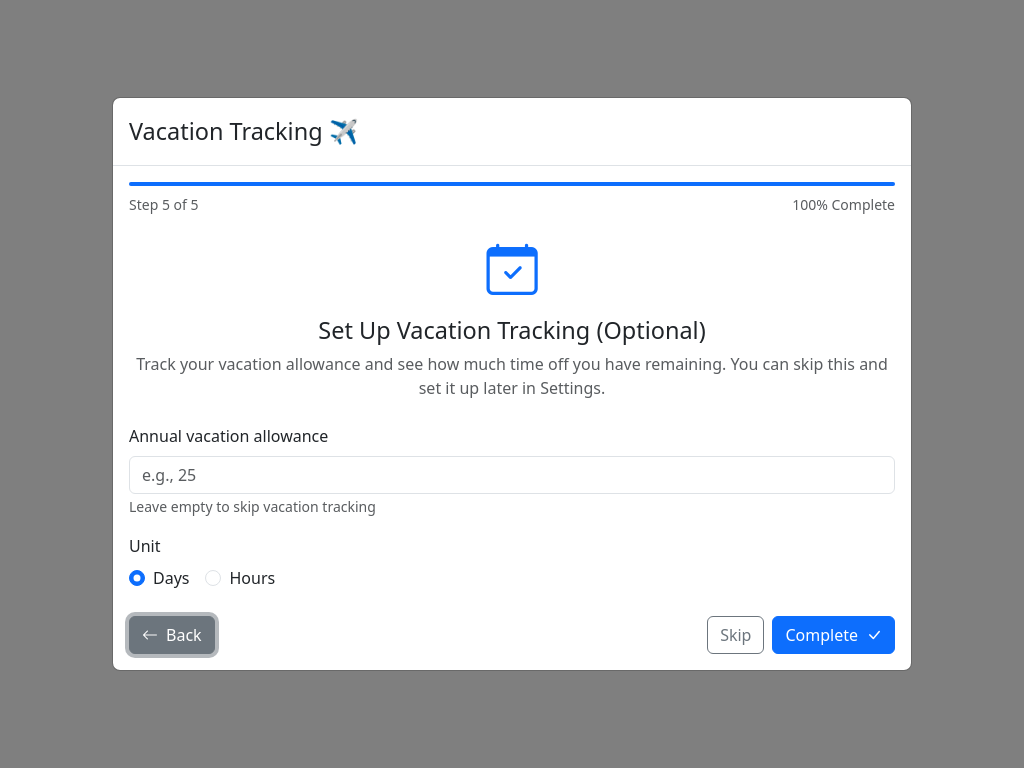
WelcomeWizard › Vacation Allowance Step › should show 'Save & Complete' button when amount is entered
Type "20" into the number field labelled "Annual vacation allowance".
click(512, 475); type("20")  # box 129,456 -> 895,494
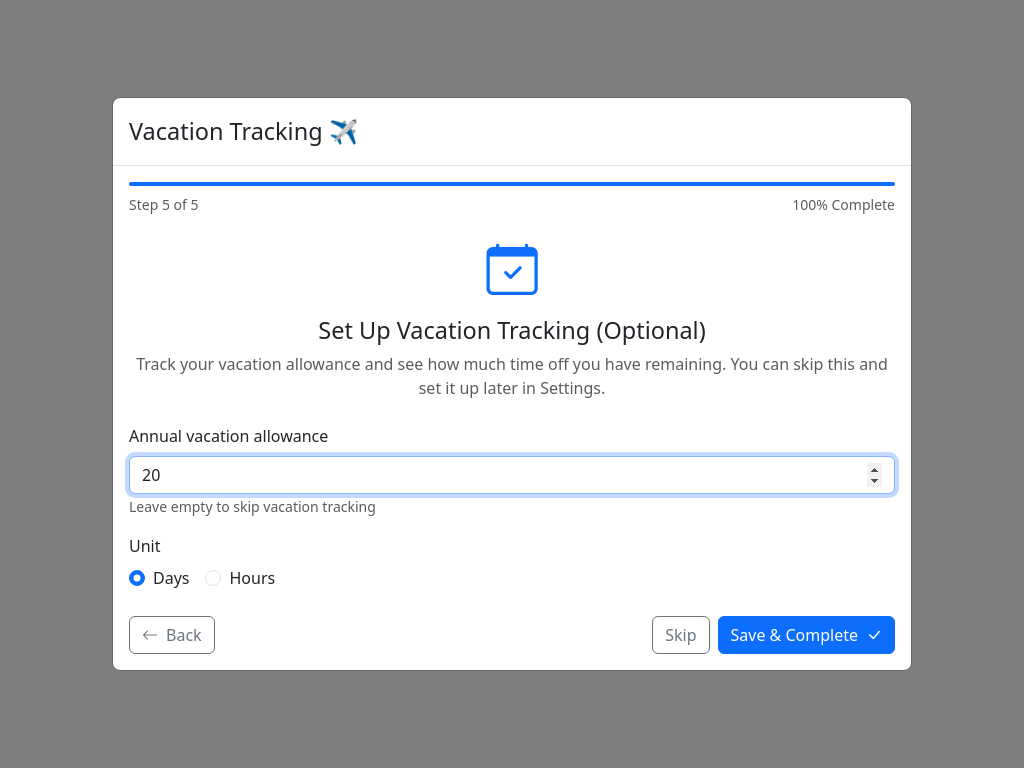
expect the button "Save & Complete" is shown: met, box 718,616 -> 895,654
